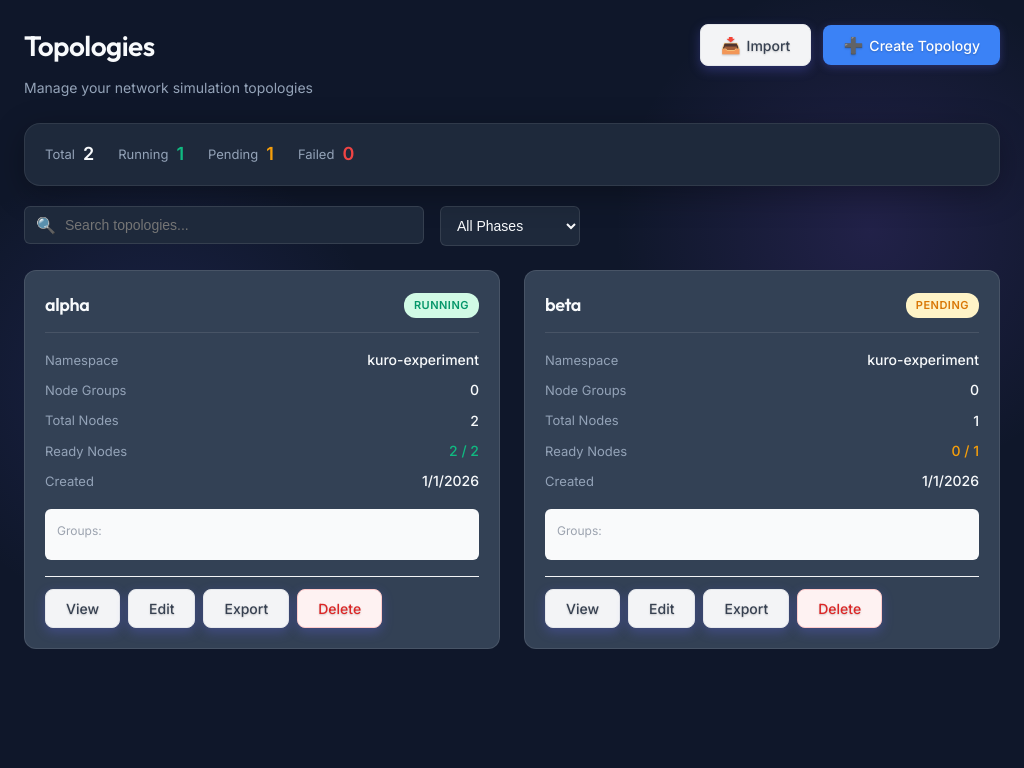
it: TopologyList › filters topologies by search term and phase
Expected: the heading "alpha" is shown, [45,291,90,320]
Expected: the heading "beta" is shown, [545,291,581,320]
Step 1. Type "alp" into the field with placeholder "Search topologies..." → coordinates (224, 225), box [24,206,424,244]
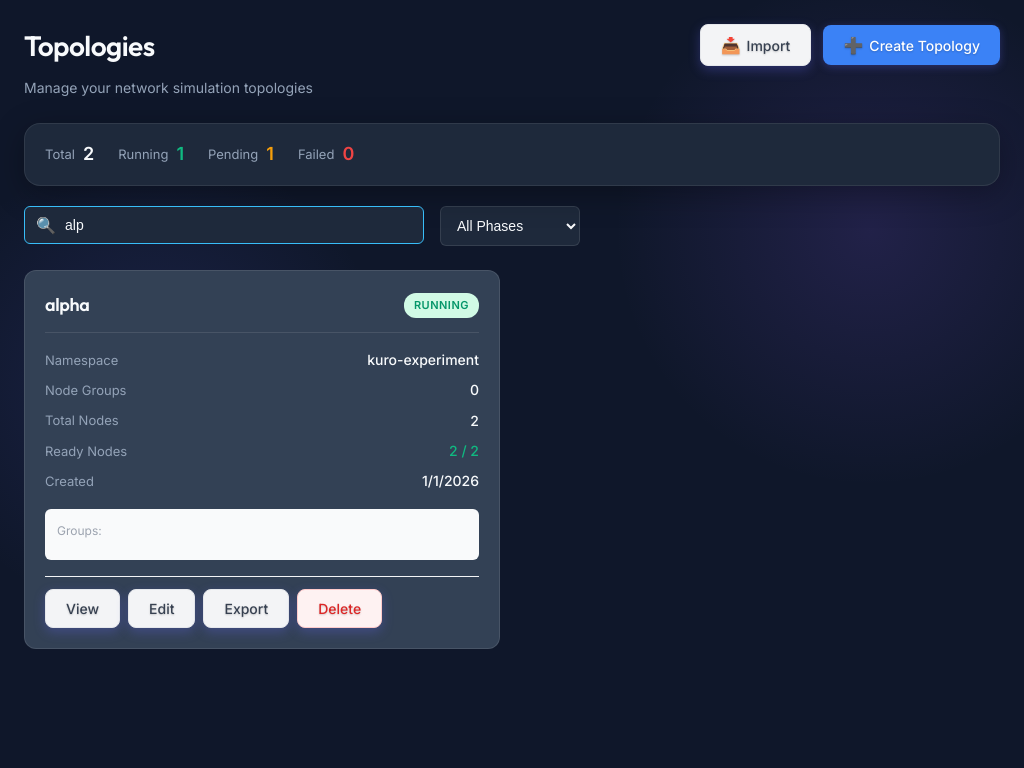
Expected: the heading "alpha" is shown, [45,291,90,320]
Result: the heading "beta" is gone
